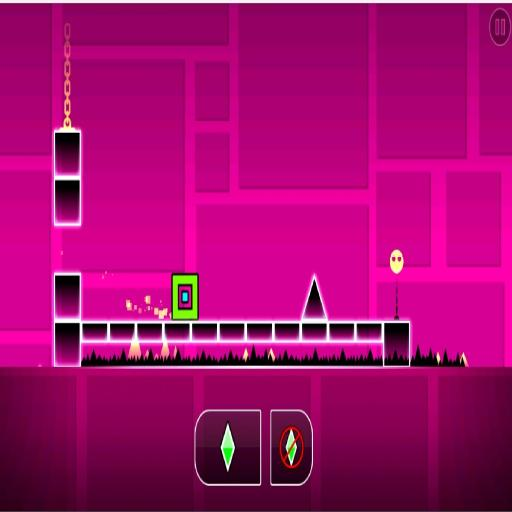block: (80, 317, 410, 373), (52, 271, 81, 368), (54, 133, 82, 228)
player: (172, 270, 200, 321)
spike: (302, 278, 326, 319), (128, 342, 140, 358), (161, 342, 169, 358), (461, 353, 468, 366), (269, 348, 275, 362), (243, 348, 248, 361), (144, 349, 149, 359), (173, 346, 177, 358), (437, 353, 440, 365), (155, 354, 159, 359)
